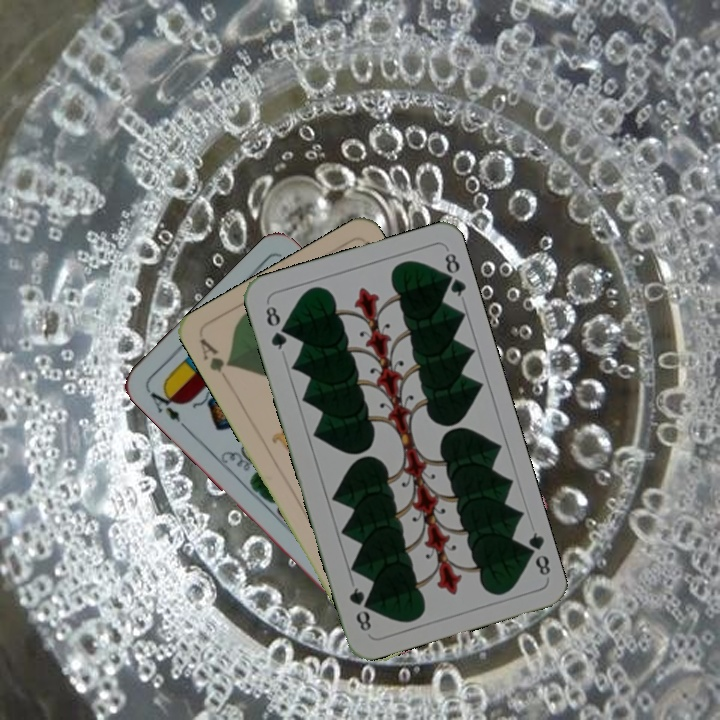EA: (144, 383, 184, 425)
G8: (518, 528, 553, 578), (261, 302, 290, 353)
GA: (195, 334, 236, 375)
